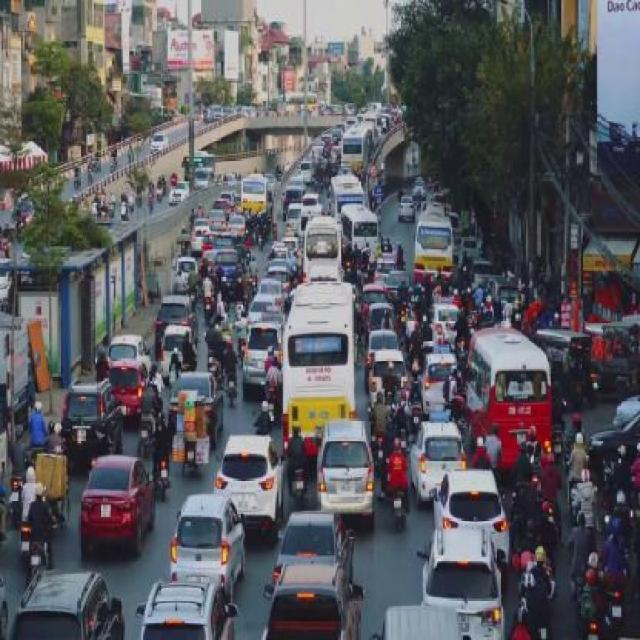licenseplate: (97, 500, 115, 520), (73, 426, 90, 445), (313, 422, 327, 443), (256, 354, 270, 372), (238, 492, 250, 510), (341, 477, 353, 491), (121, 402, 128, 415)
